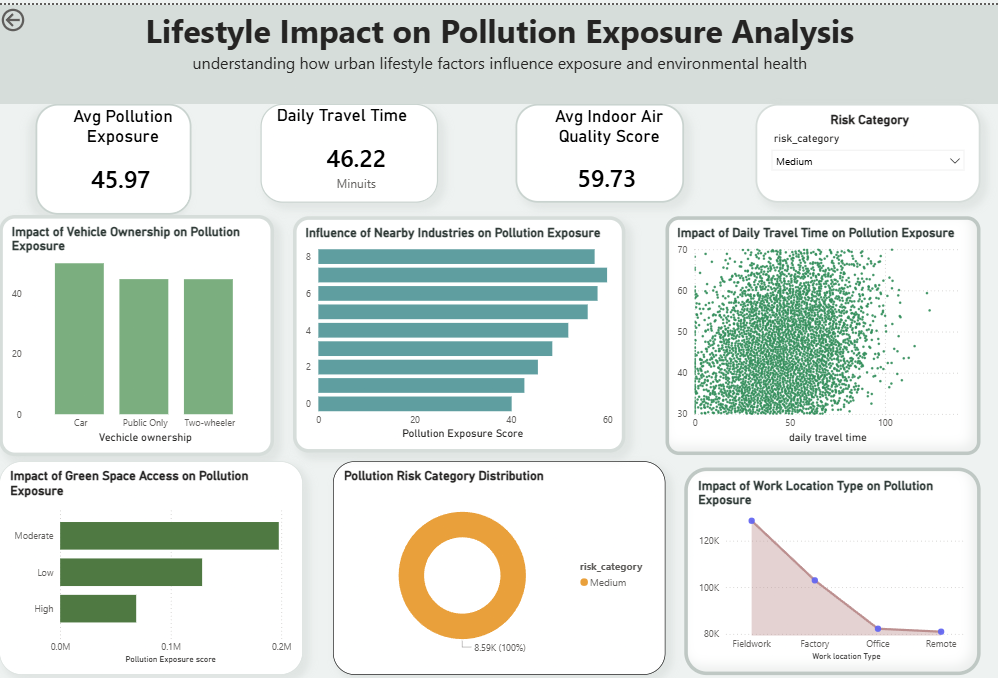

This screenshot's page, from the dashboard's own definition file:
{"tool":"powerbi","page":{"name":"Dashboard","canvas":[1336,900],"ordinal":0},"visuals":[{"type":"cardVisual","title":"Daily Travel Time ","fields":{"Data":["Avg(clean_pollution_data.daily_travel_time)"]},"box":[350,131.7,236.7,131.7],"z":0},{"type":"cardVisual","title":"Avg Pollution Exposure","fields":{"Data":["Avg(clean_pollution_data.pollution_exposure_score)"]},"box":[50,131.7,208.3,148.3],"z":1000},{"type":"cardVisual","title":"Avg Indoor Air Quality Score","fields":{"Data":["Avg(clean_pollution_data.home_air_quality)"]},"box":[690,131.7,225,131.7],"z":2000},{"type":"donutChart","title":"Pollution Risk Category Distribution","fields":{"Y":["CountNonNull(clean_pollution_data.risk_category)"],"Category":["clean_pollution_data.risk_category"]},"box":[446.7,608.3,443.3,285],"z":3000},{"type":"scatterChart","title":"Impact of Daily Travel Time on Pollution Exposure","fields":{"Y":["clean_pollution_data.pollution_exposure_score"],"X":["clean_pollution_data.daily_travel_time"]},"box":[890,281.7,420,318.3],"z":4000},{"type":"clusteredColumnChart","title":"Impact of Vehicle Ownership on Pollution Exposure","fields":{"Category":["clean_pollution_data.vehicle_ownership"],"Y":["Avg(clean_pollution_data.pollution_exposure_score)"]},"box":[1.7,280,366.7,321.7],"z":5000},{"type":"clusteredBarChart","title":"Influence of Nearby Industries on Pollution Exposure","fields":{"Category":["clean_pollution_data.nearby_industries"],"Y":["Avg(clean_pollution_data.pollution_exposure_score)"]},"box":[393.3,281.7,443.3,315],"z":6000},{"type":"clusteredBarChart","title":"Impact of Green Space Access on Pollution Exposure","fields":{"Category":["clean_pollution_data.green_space_access"],"Y":["Sum(clean_pollution_data.pollution_exposure_score)"]},"box":[1.7,608.3,405,285],"z":7000},{"type":"areaChart","title":"Impact of Work Location Type on Pollution Exposure","fields":{"Category":["clean_pollution_data.work_location_type"],"Y":["Sum(clean_pollution_data.pollution_exposure_score)"]},"box":[915,616.7,395,276.7],"z":8000},{"type":"textbox","box":[1.7,0,1335,131.7],"z":9000},{"type":"slicer","title":"Risk Category","fields":{"Values":["clean_pollution_data.risk_category"]},"box":[1010,131.7,300,131.7],"z":10000},{"type":"actionButton","box":[0,0,100,40],"z":11000}]}

Visuals, with their boxes in screenshot pixels (x1, y1, x2, y2), scaled from the page's 1336x900 canvas onto the 998x678 screenshot:
"Daily Travel Time " cardVisual: (261,99,438,198)
"Avg Pollution Exposure" cardVisual: (37,99,193,211)
"Avg Indoor Air Quality Score" cardVisual: (515,99,684,198)
"Pollution Risk Category Distribution" donutChart: (334,458,665,673)
"Impact of Daily Travel Time on Pollution Exposure" scatterChart: (665,212,979,452)
"Impact of Vehicle Ownership on Pollution Exposure" clusteredColumnChart: (1,211,275,453)
"Influence of Nearby Industries on Pollution Exposure" clusteredBarChart: (294,212,625,450)
"Impact of Green Space Access on Pollution Exposure" clusteredBarChart: (1,458,304,673)
"Impact of Work Location Type on Pollution Exposure" areaChart: (684,465,979,673)
textbox: (1,0,997,99)
"Risk Category" slicer: (754,99,979,198)
actionButton: (0,0,75,30)
